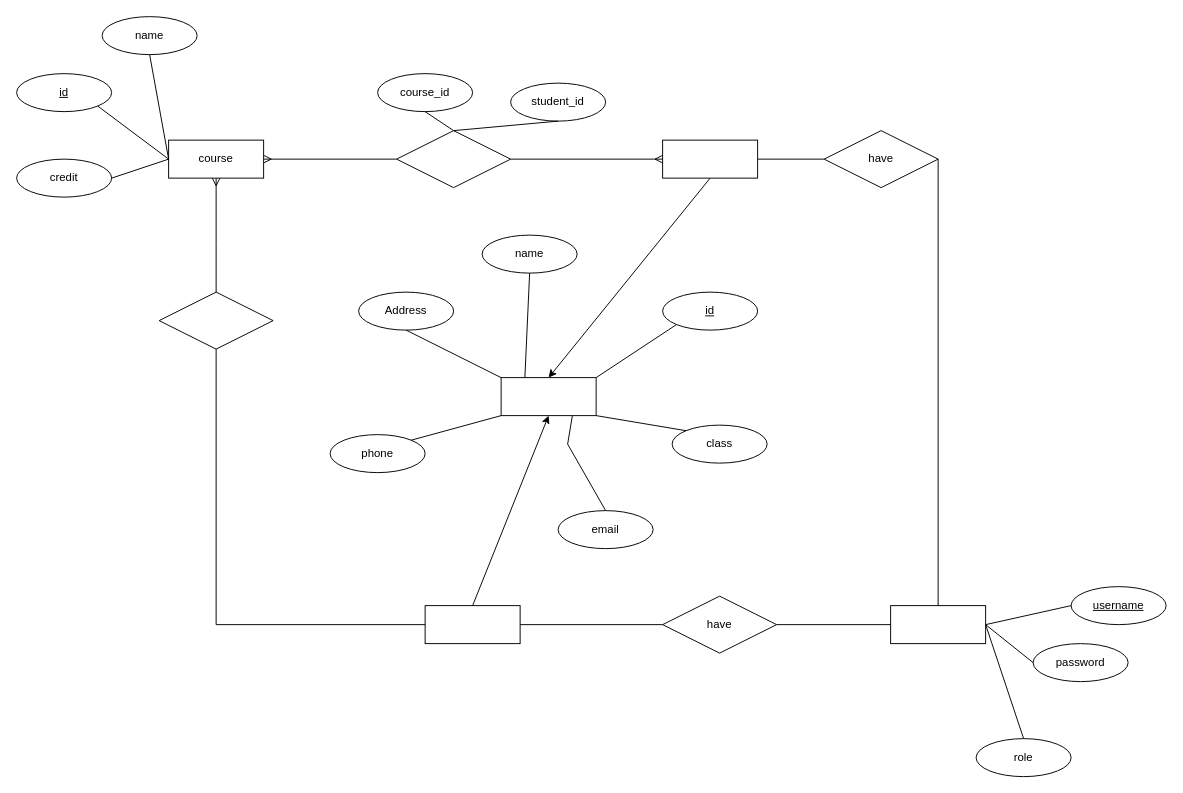
This 1183x793 diagram has some shape labels left out. Here are the shapes that lost their labels. From the top down, the box of each, then its label:
(396, 130, 511, 188): register
(662, 139, 758, 178): student
(158, 291, 273, 349): teach
(500, 377, 596, 416): User
(424, 605, 520, 644): faculty
(890, 605, 986, 644): account
